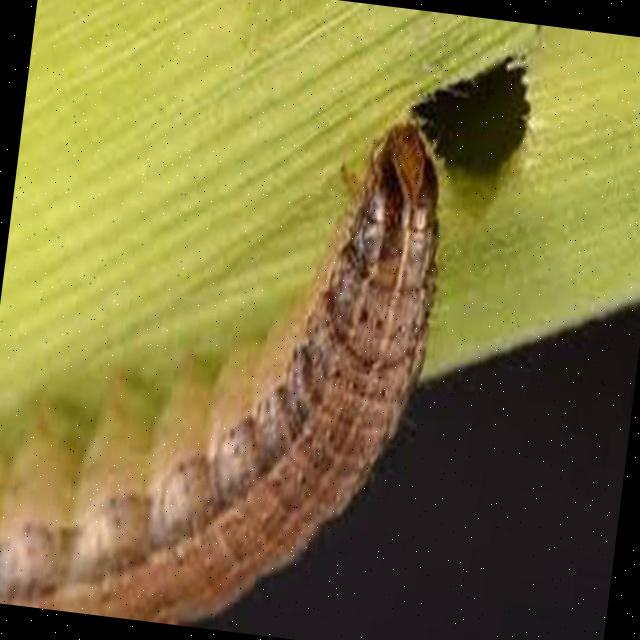worm: (1, 65, 461, 640)
